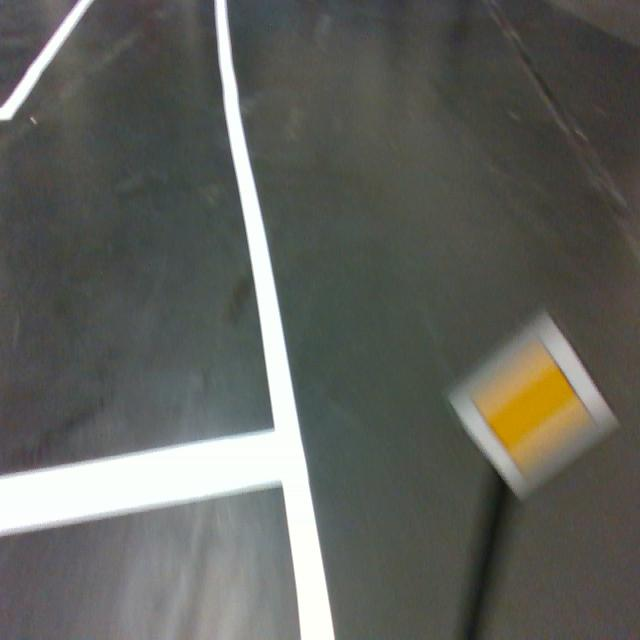priority-sign: (443, 302, 621, 503)
